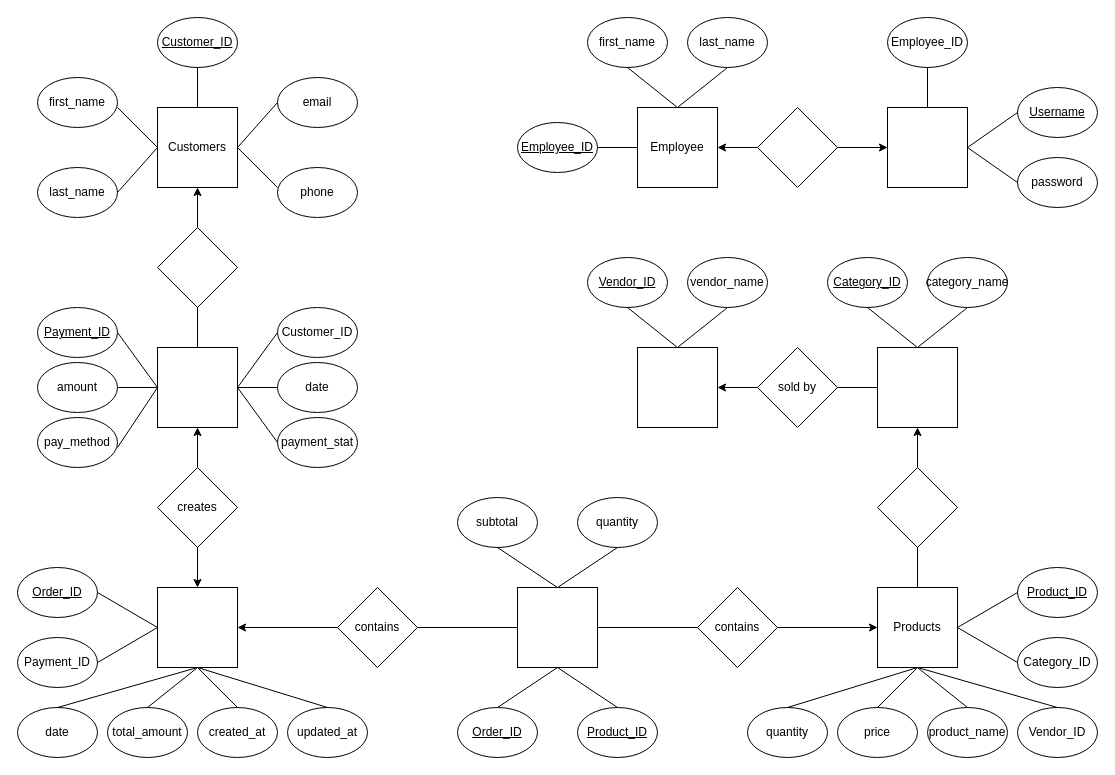
This 1115x775 diagram has some shape labels left out. The centre of each missing label's shape, as x and y in pixels:
belong to: the point at 917,507
Categories: the point at 917,387
Login_Creds: the point at 927,147
makes: the point at 197,267
Order_Details: the point at 557,627
Orders: the point at 197,627
Payments: the point at 197,387
uses: the point at 797,147
Vendors: the point at 677,387
